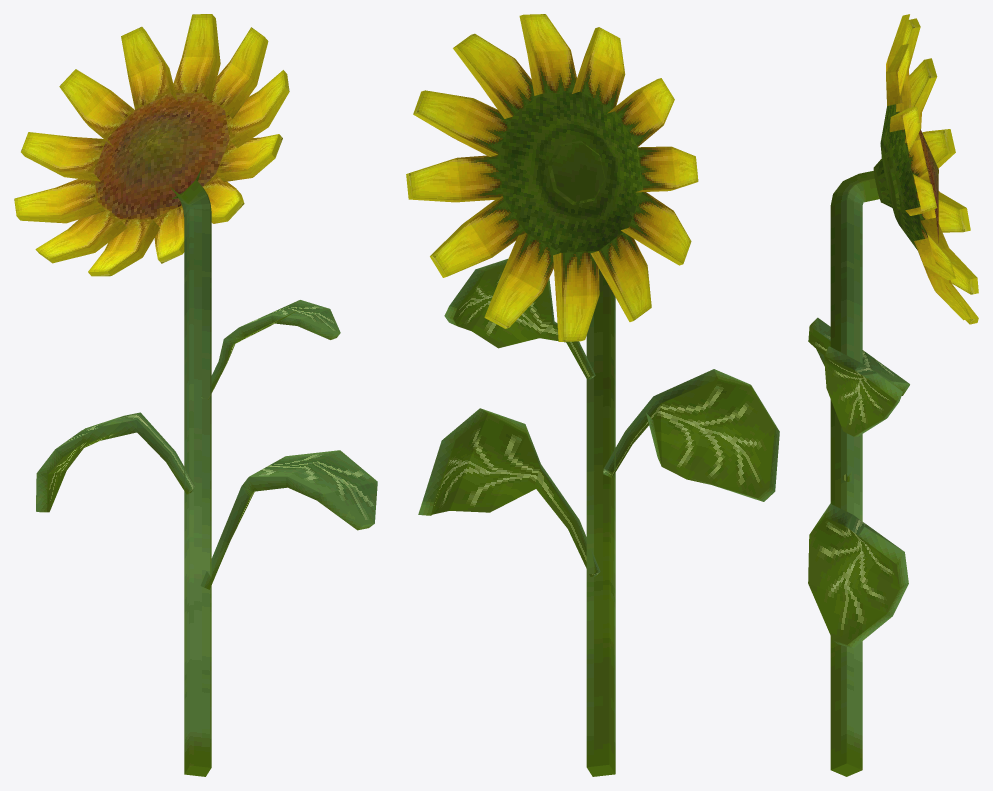
File: ps2_save-icons_shuffleonthestage.glb
3 renders of one model, left to right at view 1: azimuth 30°, elevation 25°; view 2: azimuth 150°, elevation 25°; view 3: azimuth 270°, elevation 25°, orthographic. The views are drawn at different scales.
Parts seen in each view (by area): view 1: shuffle.ico; view 2: shuffle.ico; view 3: shuffle.ico.
Part boxes in pixels (x1,y1,x2,y2): shuffle.ico: (14,14,377,776); shuffle.ico: (406,14,779,776); shuffle.ico: (808,14,978,776).
Size of the model in its own units: 1.85 by 3.85 by 0.8071.
1 material, 1 textured.
